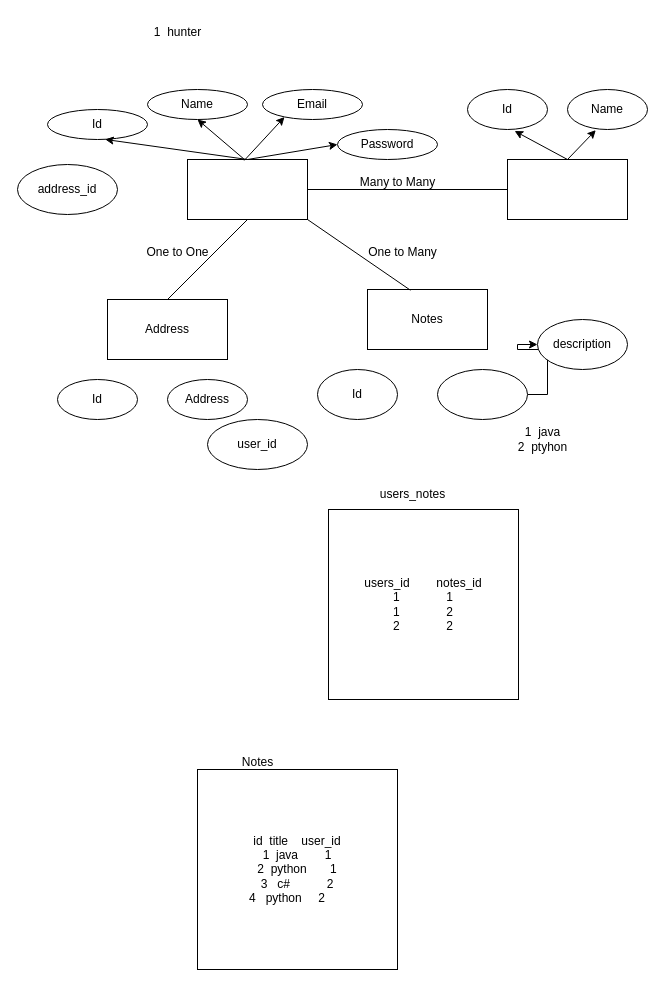
Some shapes in this 665 by 987 pixel diagram are drawn without their labels. The box of each missing label's shape, as (x1, y1, x2, y2) in pixels:
Roles: (506, 158, 628, 220)
title: (436, 368, 528, 420)
User: (186, 158, 308, 220)
